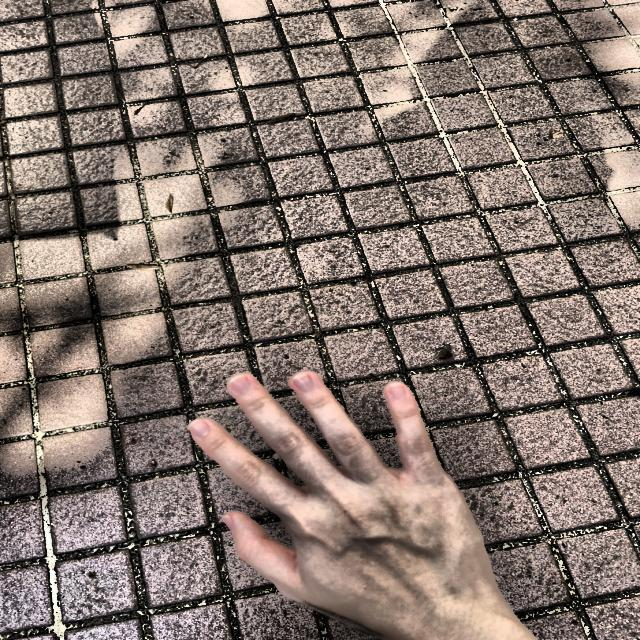not-gloved: (174, 354, 550, 640)
